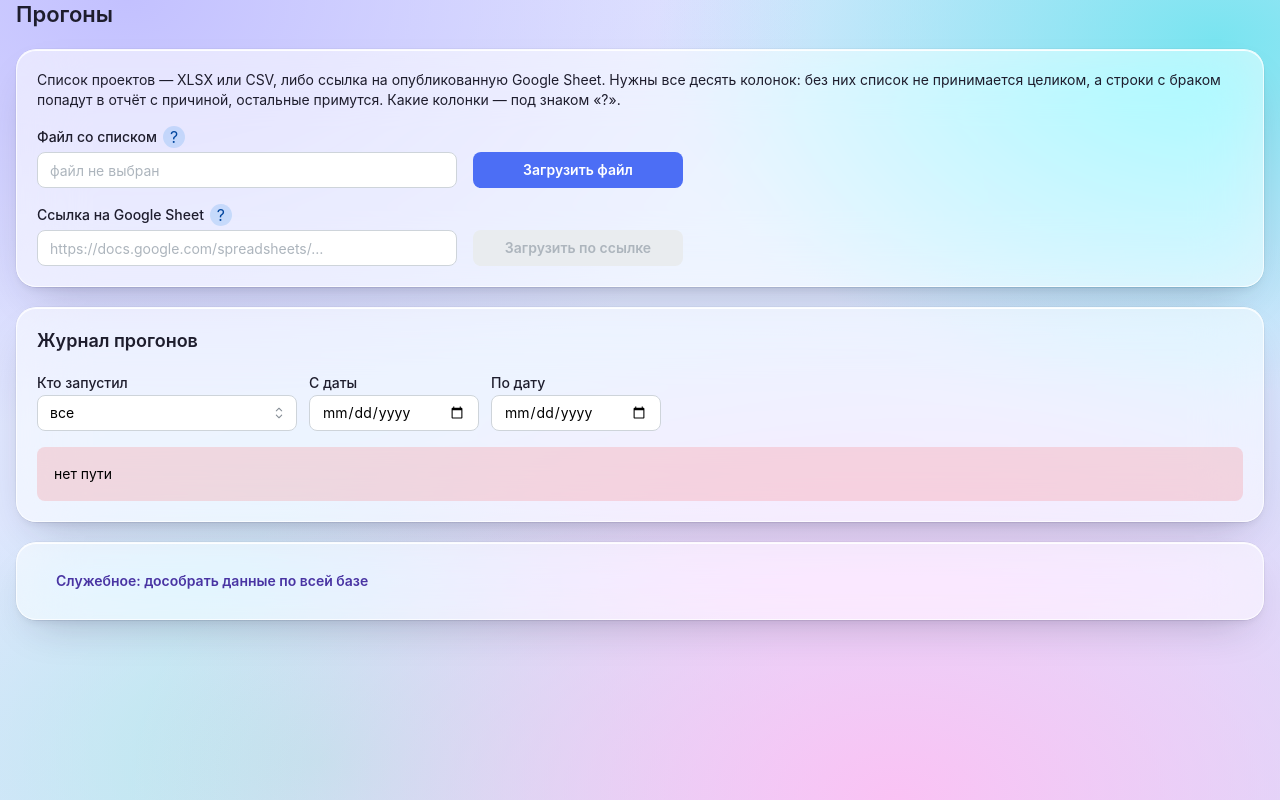
Test case: экран загрузки: смета и запуск › E9: не хватает квоты — кнопка недоступна, причина видна
The width and height of the screenshot is (1280, 800).
Click the button "Служебное: дособрать данные по всей базе": (212, 581) [37,563,387,599]
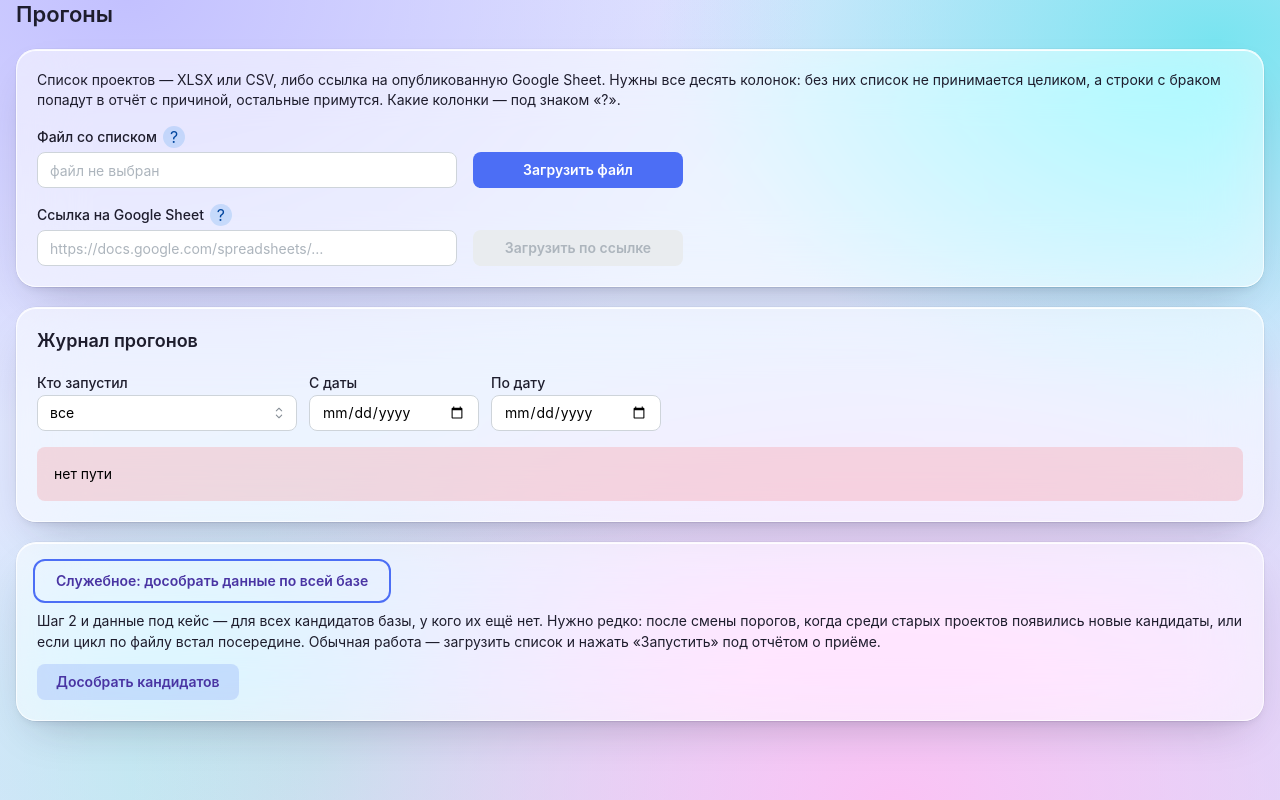
Click the button "Дособрать кандидатов": (138, 682) [37,664,239,700]
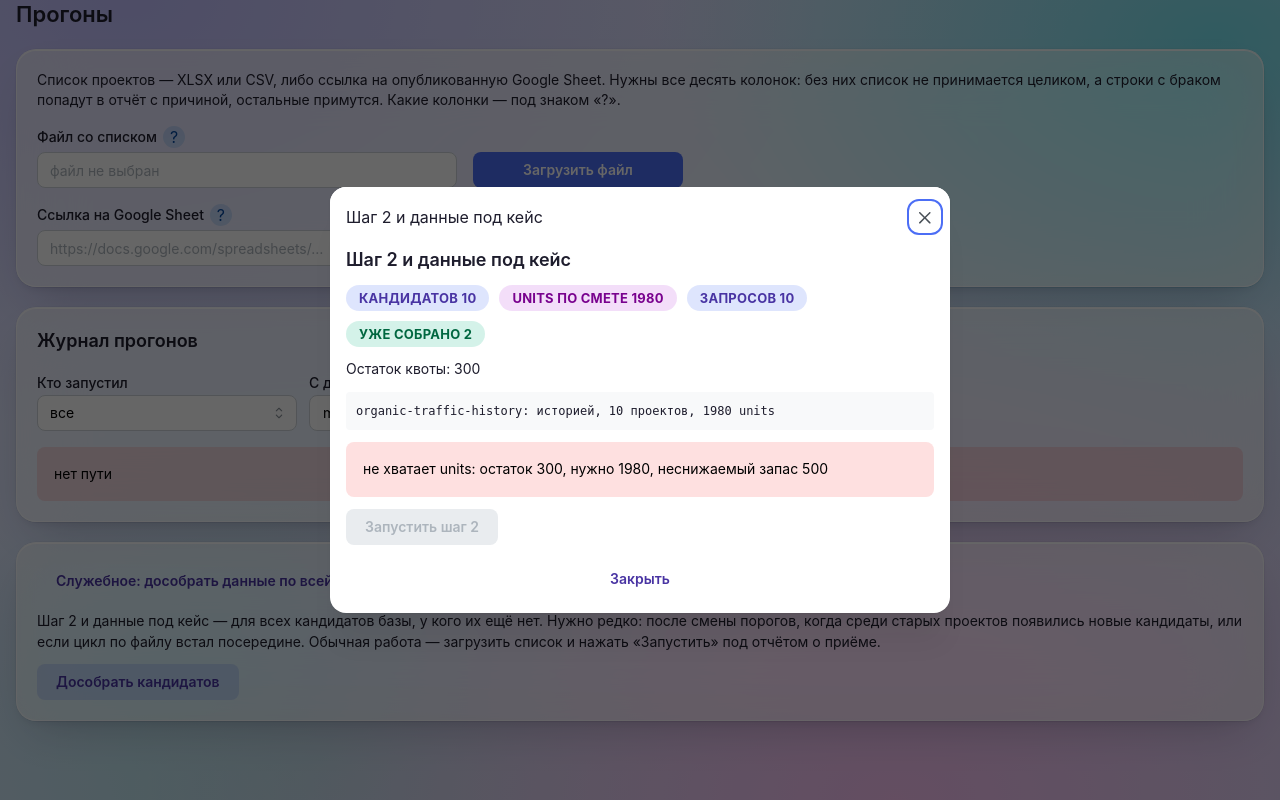
Expected: the dialog is shown, [330,187,950,613]
Expected: the text "не хватает units: остаток 300" is shown, [363,460,828,477]
Expected: the button with test id "start-run" is disabled, [346,509,498,545]
